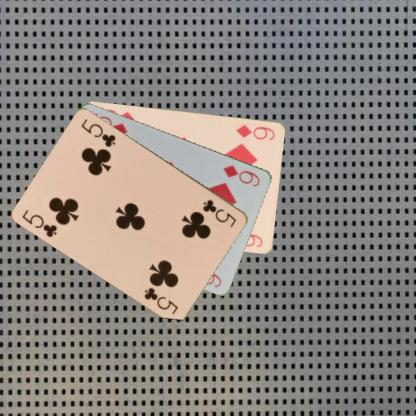5c: (201, 196, 238, 229), (20, 207, 59, 238)
6d: (221, 162, 262, 188), (234, 122, 276, 141)
